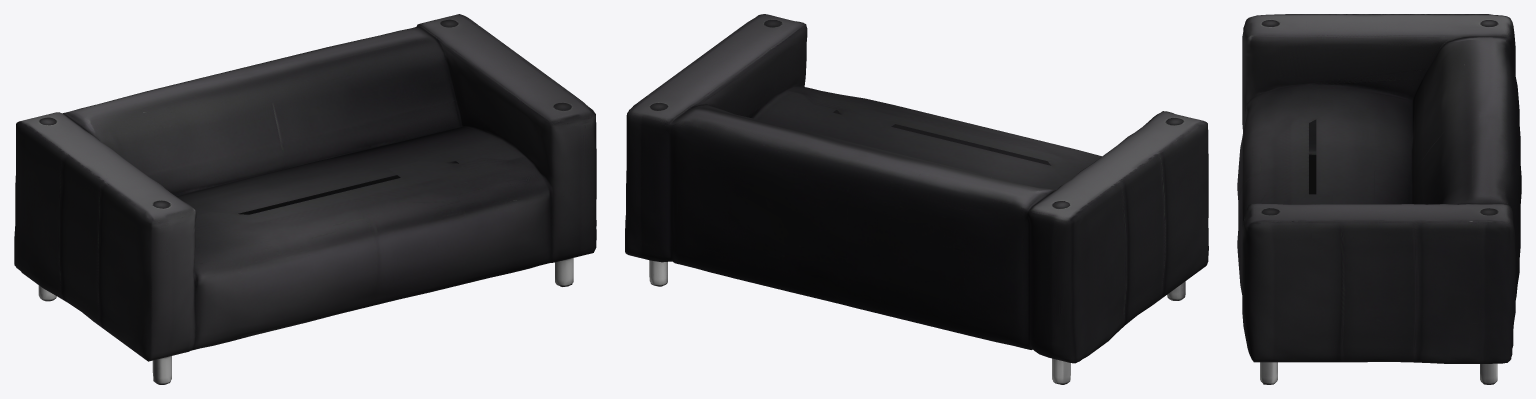
Rendered from Loveseat_Black_32InchTall_Si_0222185913_texture.glb.
3 views of the same model, side by side, from view 1: azimuth 30°, elevation 25°; view 2: azimuth 150°, elevation 25°; view 3: azimuth 270°, elevation 25° (orthographic). The views are drawn at different scales.
Visible parts, largest first — view 1: Mesh_0; view 2: Mesh_0; view 3: Mesh_0.
Part boxes in pixels (bbox=[...]): Mesh_0: bbox=[14, 14, 596, 384]; Mesh_0: bbox=[625, 14, 1208, 384]; Mesh_0: bbox=[1237, 14, 1521, 384].
Size of the model in its own units: 2.19 by 0.8128 by 1.23.
Materials: 1 (1 with a texture image).
